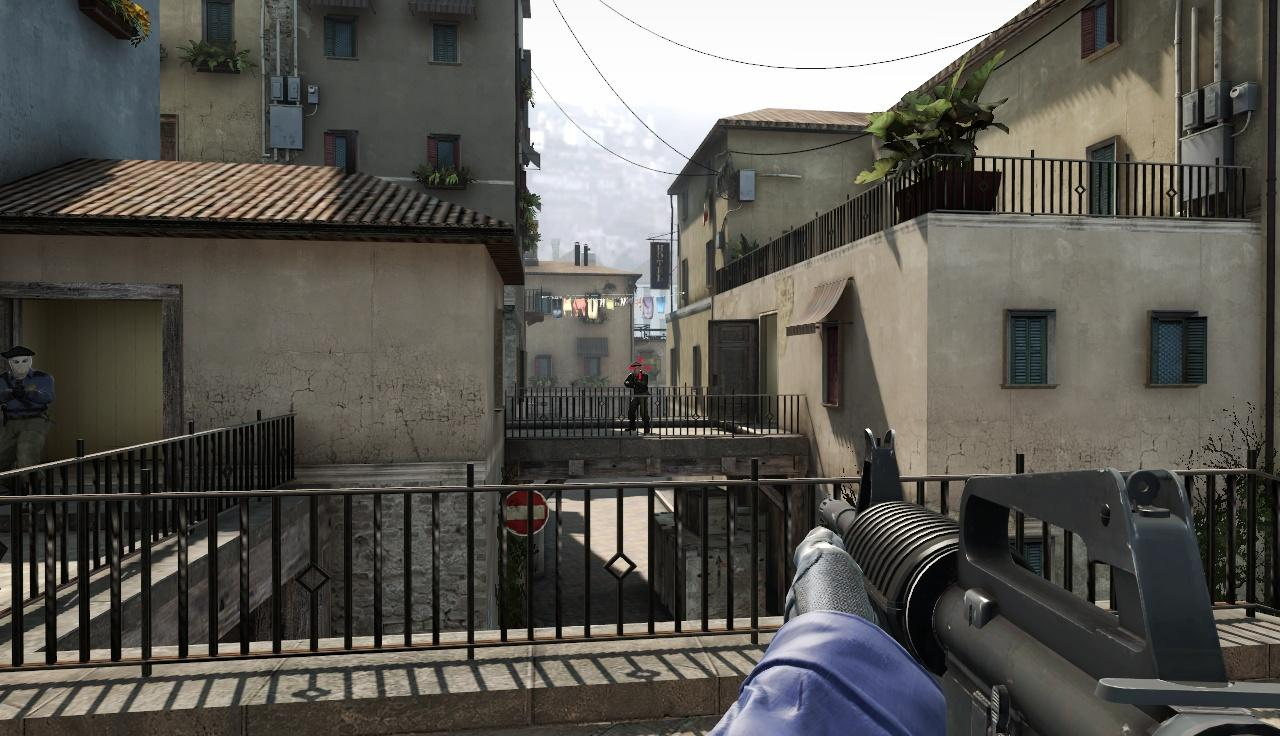rifle: (821, 427, 1280, 736)
tt: (628, 362, 648, 434)
tthead: (631, 363, 642, 377)
